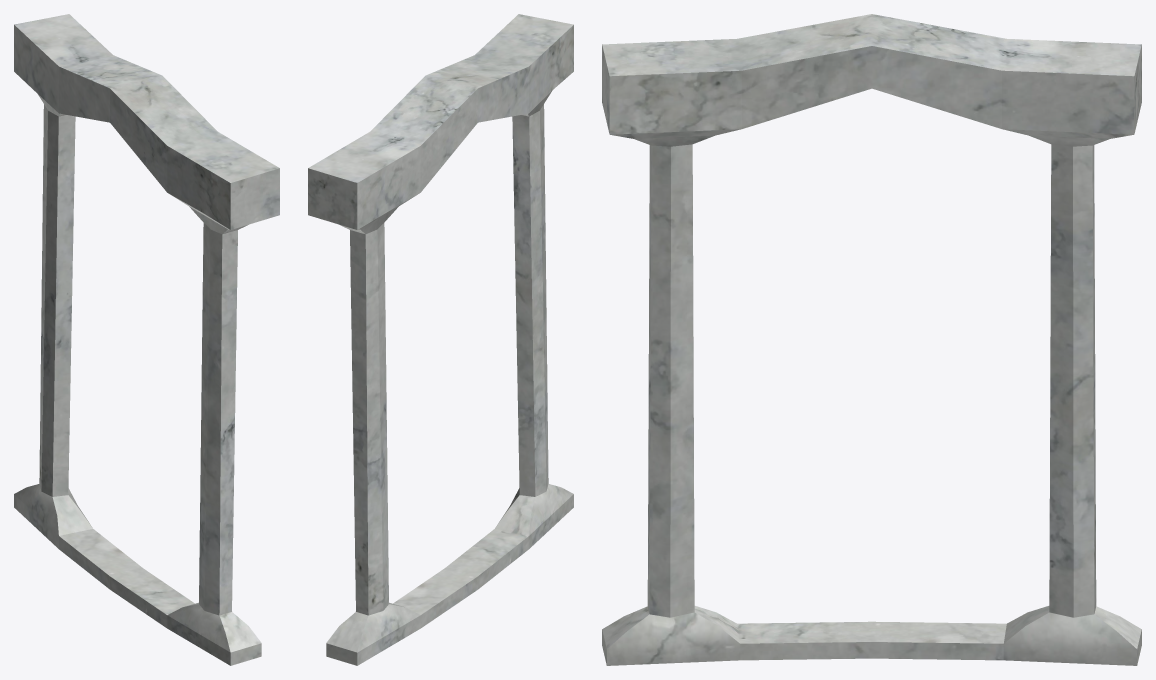
The model's file is Window_Cheddar_ToPaint.fbx.
3 renders of one model, left to right at view 1: azimuth 30°, elevation 25°; view 2: azimuth 150°, elevation 25°; view 3: azimuth 270°, elevation 25°, orthographic. The views are drawn at different scales.
Visible parts, largest first — view 1: polySurface119; view 2: polySurface119; view 3: polySurface119.
Boxes of the visible parts, <box> form: polySurface119: <box>14,14,279,665</box>; polySurface119: <box>308,14,573,665</box>; polySurface119: <box>602,14,1141,665</box>.
Size of the model in its own units: 0.0179 by 0.133 by 0.1042.
1 material, 1 textured.
